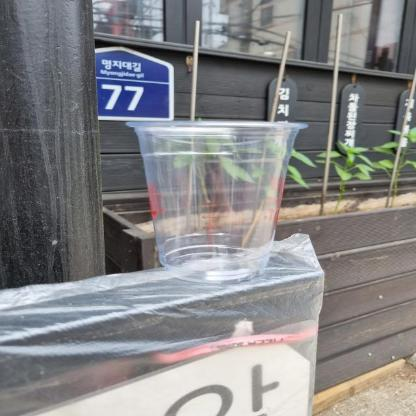Plastic Cup: (126, 118, 309, 286)
